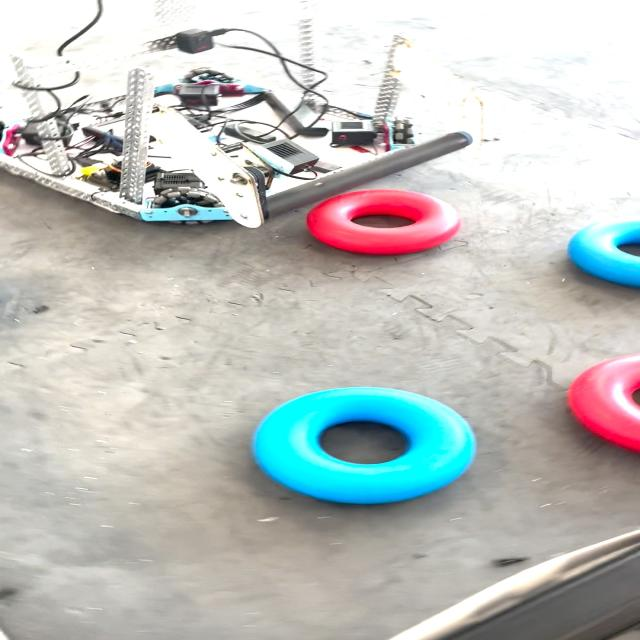Blue-Ring: (253, 388, 476, 504), (569, 220, 640, 288)
Red-Ring: (307, 189, 460, 255), (567, 354, 640, 452)
